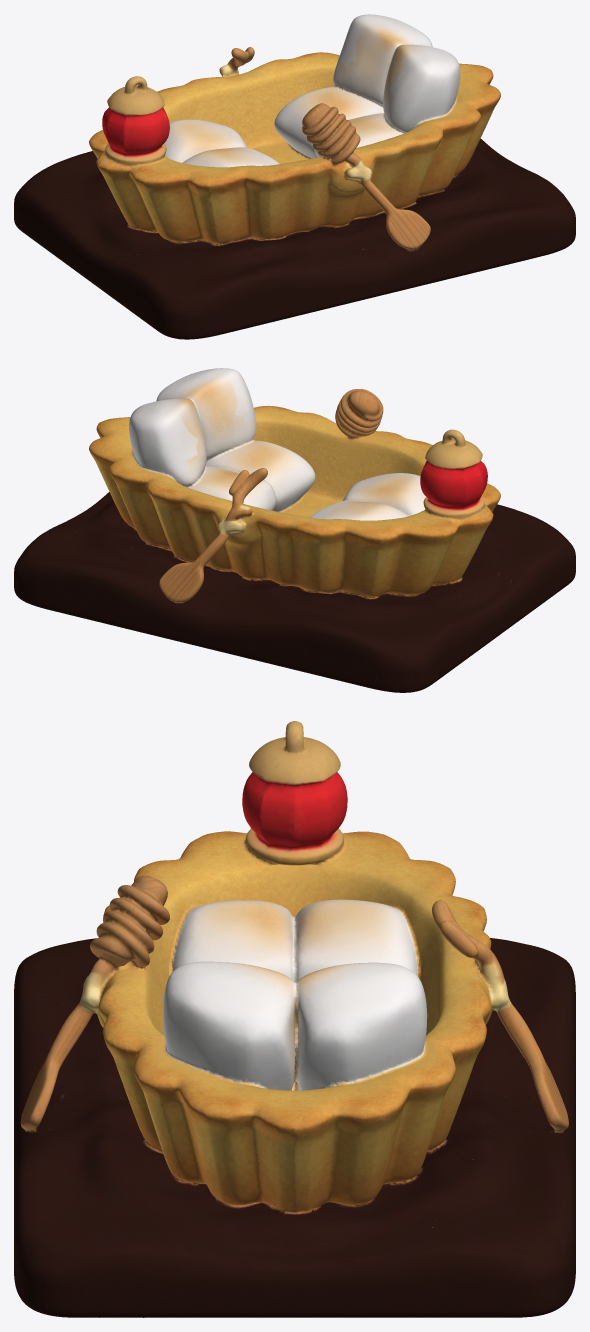
Rendered from marshmallow-campfire.glb.
The picture shows the model from 3 angles, top to bottom: view 1: azimuth 30°, elevation 25°; view 2: azimuth 150°, elevation 25°; view 3: azimuth 270°, elevation 25°; orthographic projection. The views are drawn at different scales.
Bounding box in the file's own units: 1.9 × 0.8582 × 1.39.
1 material, 1 textured.
